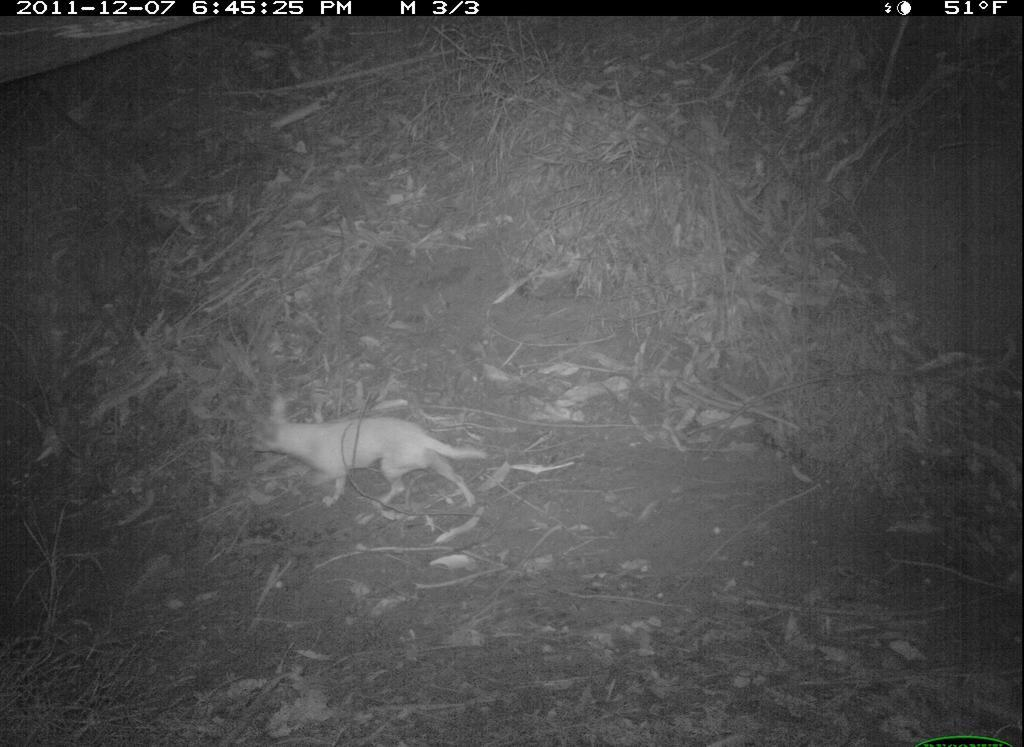dog: (240, 391, 493, 525)
